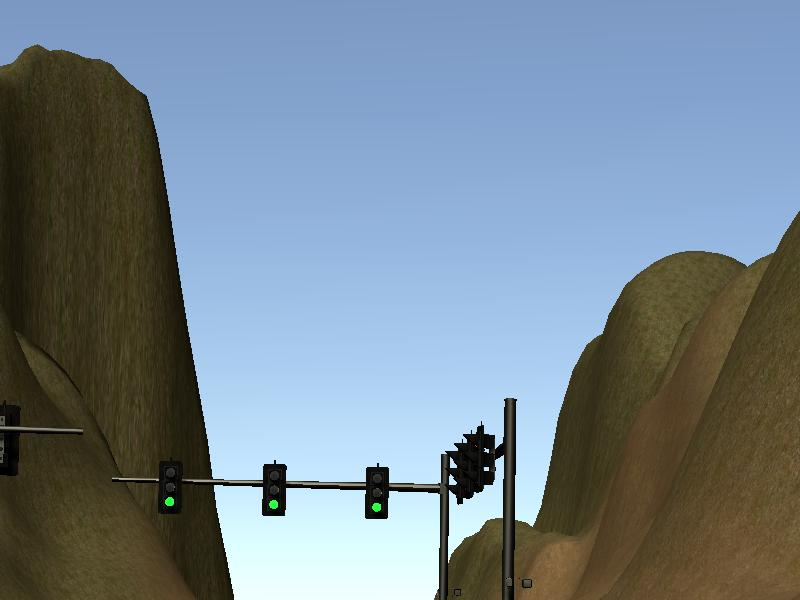Green: (158, 461, 182, 513), (262, 463, 286, 515), (365, 468, 387, 517)
